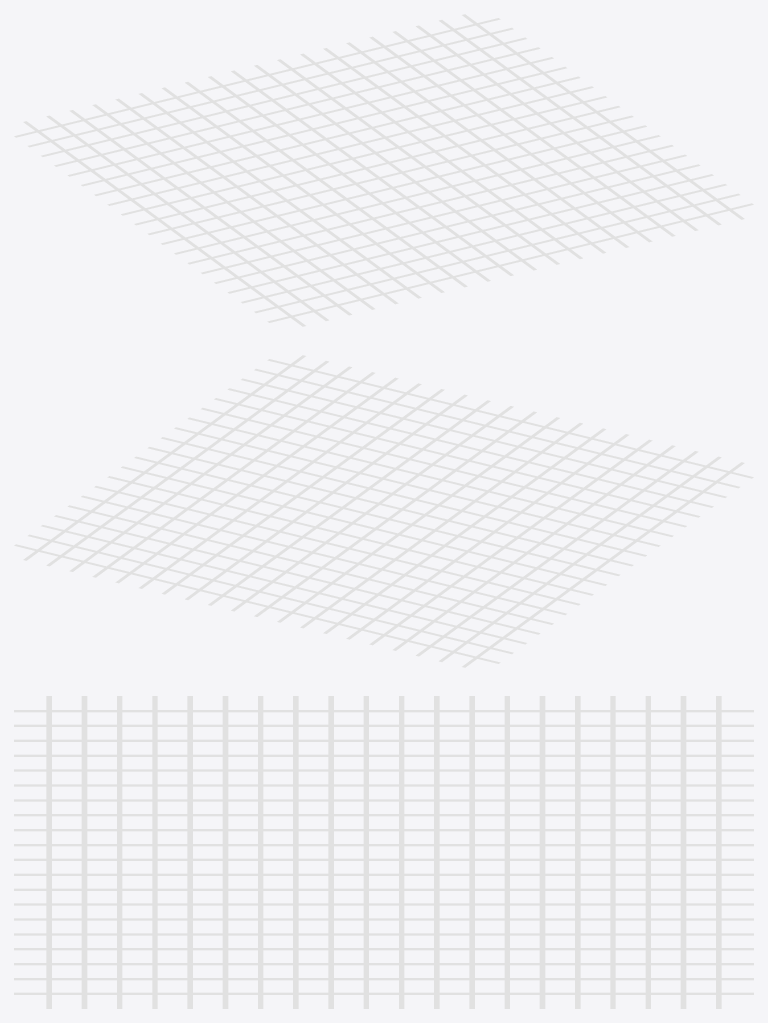
File: framePlane.obj
3 views of the same model, one above another, from view 1: azimuth 30°, elevation 25°; view 2: azimuth 150°, elevation 25°; view 3: azimuth 270°, elevation 25° (orthographic). The views are drawn at different scales.
Visible parts, largest first — view 1: 平面.001; view 2: 平面.001; view 3: 平面.001.
Part boxes in pixels (<box>): 平面.001: <box>14,14,753,326</box>; 平面.001: <box>14,355,753,667</box>; 平面.001: <box>14,696,753,1008</box>.
Size of the model in its own units: 20 by 0 by 20.
